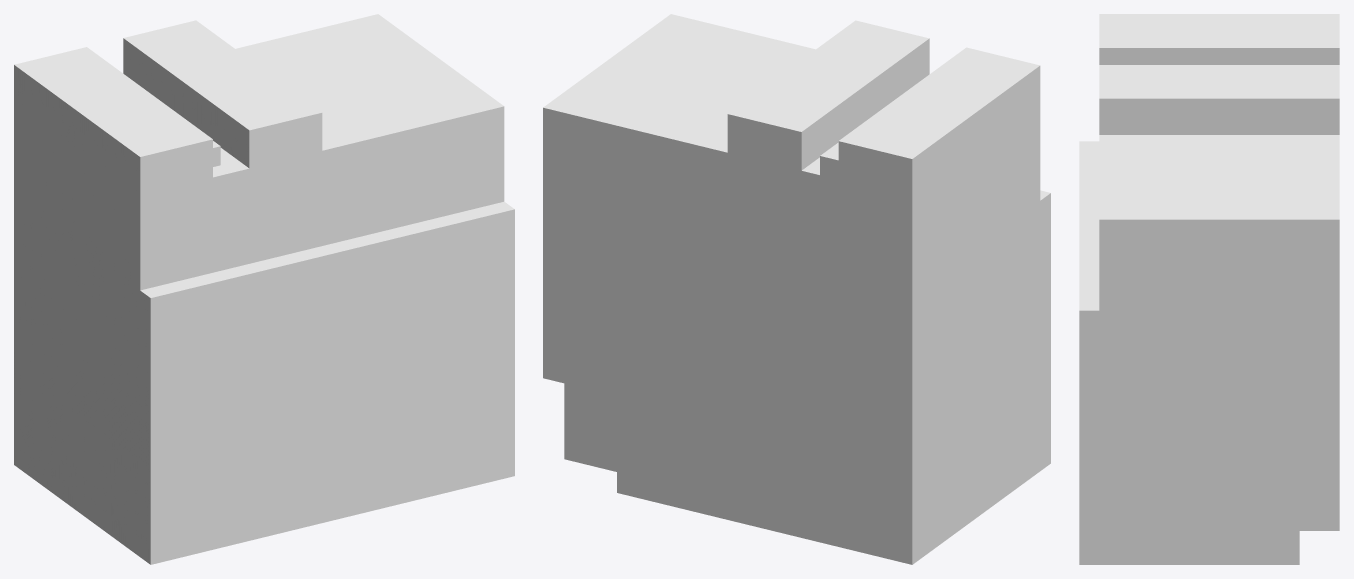
File: Compoundhumanoid.fbx
The picture shows the model from 3 angles, left to right: view 1: azimuth 30°, elevation 25°; view 2: azimuth 150°, elevation 25°; view 3: azimuth 270°, elevation 25°; orthographic projection. The views are drawn at different scales.
Parts seen in each view (by area): view 1: _3, _12, _13, _9, _1, _4, _6, _11, object 8; view 2: _3, _12, _6, _13, _1, _4, _9, _7, _11, object 8; view 3: _3, _13, _12, _4, _6.
Boxes of the visible parts, x1,y1,x2,y2 form: _3: (14, 14, 514, 564); _12: (14, 47, 322, 546); _13: (15, 20, 322, 286); _9: (14, 84, 220, 479); _1: (45, 312, 108, 487); _4: (24, 206, 140, 404); _6: (14, 351, 66, 496); _11: (14, 301, 74, 472); object 8: (14, 363, 65, 491); _3: (543, 14, 1050, 478); _12: (727, 47, 1040, 532); _6: (617, 338, 959, 564); _13: (727, 20, 1028, 345); _1: (746, 316, 1008, 505); _4: (617, 201, 1040, 506); _9: (820, 98, 1025, 564); _7: (635, 401, 943, 519); _11: (617, 345, 976, 554); object 8: (751, 417, 959, 564); _3: (1079, 135, 1339, 564); _13: (1099, 65, 1339, 134); _12: (1099, 14, 1339, 64); _4: (1099, 310, 1339, 530); _6: (1300, 474, 1319, 530).
Bounding box in the file's own units: 20 × 21 × 13.
Materials: 1 (1 with a texture image).
